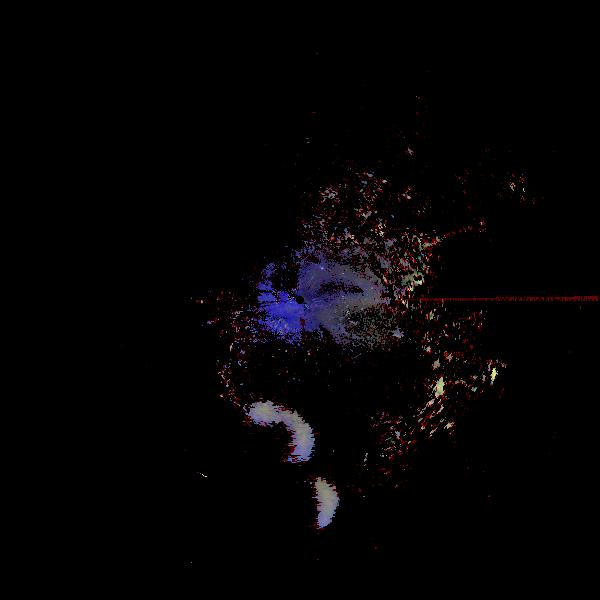roost: (247, 403, 319, 475), (285, 475, 342, 532)
